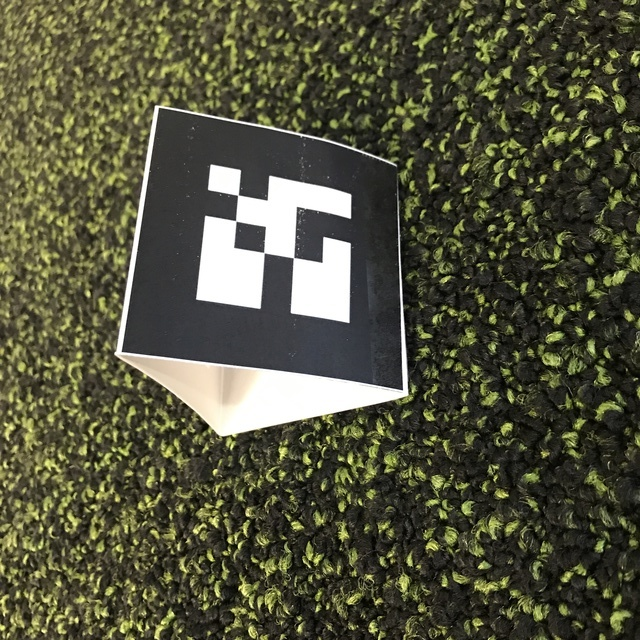ARTag: (116, 104, 411, 437)
